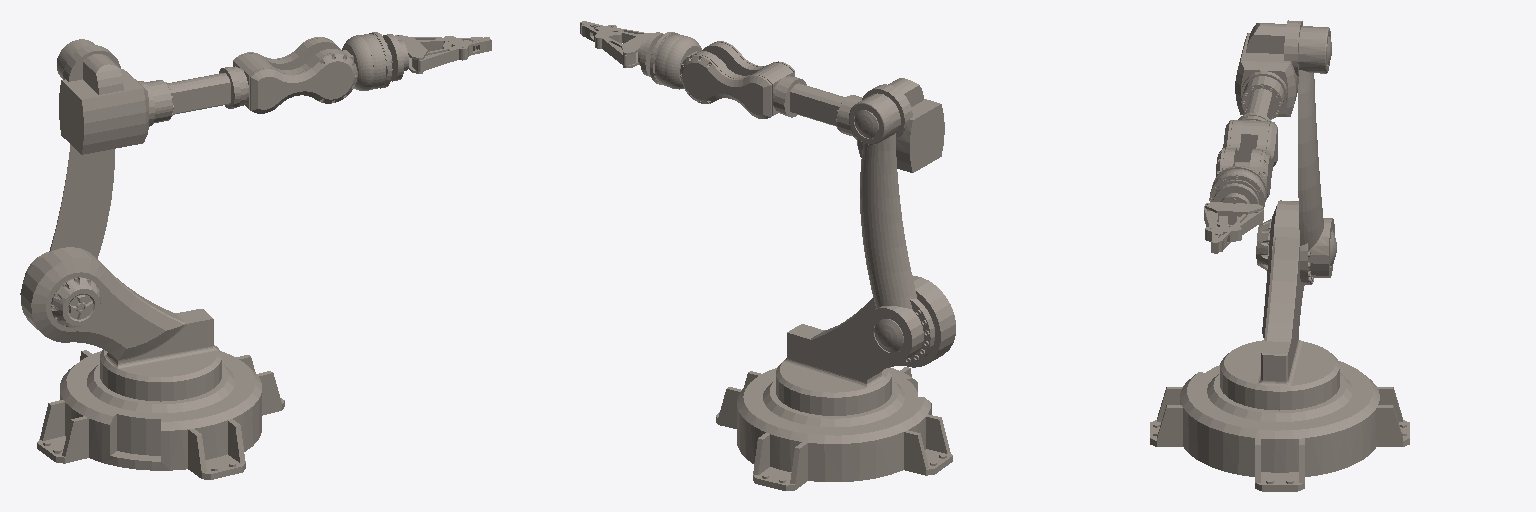
URDF robot description (arm_description):
<?xml version="1.0" encoding="utf-8"?>
<!-- This URDF was automatically created by SolidWorks to URDF Exporter! Originally created by [author] ([email redacted]) 
     Commit Version: 1.6.0-4-g7f85cfe  Build Version: 1.6.7995.38578
     For more information, please see http://wiki.ros.org/sw_urdf_exporter -->
<robot
  name="arm_description">
  <link
    name="base_link">
    <inertial>
      <origin
        xyz="0.00143969137250427 0.00143969137250421 0.00438777280701788"
        rpy="0 0 0" />
      <mass
        value="44.9190588648697" />
      <inertia
        ixx="0.286002598339597"
        ixy="0.00628467784877577"
        ixz="-0.000280541255882245"
        iyy="0.286002598339597"
        iyz="-0.000280541255882233"
        izz="0.522166428473919" />
    </inertial>
    <visual>
      <origin
        xyz="0 0 0"
        rpy="0 0 0" />
      <geometry>
        <mesh
          filename="package://arm_description/meshes/base_link.STL" />
      </geometry>
      <material
        name="">
        <color
          rgba="0.650980392156863 0.619607843137255 0.588235294117647 1" />
      </material>
    </visual>
    <collision>
      <origin
        xyz="0 0 0"
        rpy="0 0 0" />
      <geometry>
        <mesh
          filename="package://arm_description/meshes/base_link.STL" />
      </geometry>
    </collision>
  </link>
  <link
    name="link1">
    <inertial>
      <origin
        xyz="-0.057075524192337 0.0829029144921835 0.00277681134891594"
        rpy="0 0 0" />
      <mass
        value="18.1477609595778" />
      <inertia
        ixx="0.093812441089824"
        ixy="0.0713439095373798"
        ixz="0.00373913324318502"
        iyy="0.127557254087219"
        iyz="-0.00327157523451793"
        izz="0.186836265570095" />
    </inertial>
    <visual>
      <origin
        xyz="0 0 0"
        rpy="0 0 0" />
      <geometry>
        <mesh
          filename="package://arm_description/meshes/link1.STL" />
      </geometry>
      <material
        name="">
        <color
          rgba="0.650980392156863 0.619607843137255 0.588235294117647 1" />
      </material>
    </visual>
    <collision>
      <origin
        xyz="0 0 0"
        rpy="0 0 0" />
      <geometry>
        <mesh
          filename="package://arm_description/meshes/link1.STL" />
      </geometry>
    </collision>
  </link>
  <joint
    name="joint1"
    type="continuous">
    <origin
      xyz="0 0 0.05"
      rpy="1.5707963267949 0 -0.106786316106193" />
    <parent
      link="base_link" />
    <child
      link="link1" />
    <axis
      xyz="0 1 0" />
  </joint>
  <link
    name="link2">
    <inertial>
      <origin
        xyz="-0.140026146825609 0.0352923616875173 0.00812609460372782"
        rpy="0 0 0" />
      <mass
        value="7.18324748071002" />
      <inertia
        ixx="0.00478738563697837"
        ixy="-0.000656938778811113"
        ixz="0.00136729920819372"
        iyy="0.140060678405665"
        iyz="0.000243185688554337"
        izz="0.137440098674691" />
    </inertial>
    <visual>
      <origin
        xyz="0 0 0"
        rpy="0 0 0" />
      <geometry>
        <mesh
          filename="package://arm_description/meshes/link2.STL" />
      </geometry>
      <material
        name="">
        <color
          rgba="0.650980392156863 0.619607843137255 0.588235294117647 1" />
      </material>
    </visual>
    <collision>
      <origin
        xyz="0 0 0"
        rpy="0 0 0" />
      <geometry>
        <mesh
          filename="package://arm_description/meshes/link2.STL" />
      </geometry>
    </collision>
  </link>
  <joint
    name="joint2"
    type="continuous">
    <origin
      xyz="-0.15 0.16 0"
      rpy="-1.5707963267949 0 -1.69396353495007" />
    <parent
      link="link1" />
    <child
      link="link2" />
    <axis
      xyz="0 1 0" />
  </joint>
  <link
    name="link3">
    <inertial>
      <origin
        xyz="0.0339570442163462 0.0385141208523814 -0.026153403400337"
        rpy="0 0 0" />
      <mass
        value="10.1219655479422" />
      <inertia
        ixx="0.013852442854189"
        ixy="-0.00222927417346809"
        ixz="0.000634652869064411"
        iyy="0.0479561386819704"
        iyz="0.000970994342187811"
        izz="0.0510153448606204" />
    </inertial>
    <visual>
      <origin
        xyz="0 0 0"
        rpy="0 0 0" />
      <geometry>
        <mesh
          filename="package://arm_description/meshes/link3.STL" />
      </geometry>
      <material
        name="">
        <color
          rgba="0.650980392156863 0.619607843137255 0.588235294117647 1" />
      </material>
    </visual>
    <collision>
      <origin
        xyz="0 0 0"
        rpy="0 0 0" />
      <geometry>
        <mesh
          filename="package://arm_description/meshes/link3.STL" />
      </geometry>
    </collision>
  </link>
  <joint
    name="joint3"
    type="continuous">
    <origin
      xyz="-0.35 0 0"
      rpy="1.57079632678933 -1.44762911863972 -3.14159265358416" />
    <parent
      link="link2" />
    <child
      link="link3" />
    <axis
      xyz="0 0 1" />
  </joint>
  <link
    name="link4">
    <inertial>
      <origin
        xyz="-0.107629273657781 -1.96725968848455E-11 -3.96261912172235E-10"
        rpy="0 0 0" />
      <mass
        value="4.6846328248742" />
      <inertia
        ixx="0.00425222907051563"
        ixy="-1.15223954333504E-12"
        ixz="-1.17247842077589E-10"
        iyy="0.0166762626633217"
        iyz="1.32397646512377E-09"
        izz="0.0154642820527334" />
    </inertial>
    <visual>
      <origin
        xyz="0 0 0"
        rpy="0 0 0" />
      <geometry>
        <mesh
          filename="package://arm_description/meshes/link4.STL" />
      </geometry>
      <material
        name="">
        <color
          rgba="0.650980392156863 0.619607843137255 0.588235294117647 1" />
      </material>
    </visual>
    <collision>
      <origin
        xyz="0 0 0"
        rpy="0 0 0" />
      <geometry>
        <mesh
          filename="package://arm_description/meshes/link4.STL" />
      </geometry>
    </collision>
  </link>
  <joint
    name="joint4"
    type="continuous">
    <origin
      xyz="0.191733844433853 0.0450000000000266 -0.0279999999997629"
      rpy="-3.14159265358975 0 -3.14159265358961" />
    <parent
      link="link3" />
    <child
      link="link4" />
    <axis
      xyz="1 0 0" />
  </joint>
  <link
    name="link5">
    <inertial>
      <origin
        xyz="-1.06137321154165E-13 -5.99520433297585E-15 0.0593911348979121"
        rpy="0 0 0" />
      <mass
        value="2.67314149540547" />
      <inertia
        ixx="0.00301316183579177"
        ixy="3.55380738182177E-17"
        ixz="-4.47233396150271E-19"
        iyy="0.00299472549560383"
        iyz="1.24416924629023E-16"
        izz="0.00178277119167584" />
    </inertial>
    <visual>
      <origin
        xyz="0 0 0"
        rpy="0 0 0" />
      <geometry>
        <mesh
          filename="package://arm_description/meshes/link5.STL" />
      </geometry>
      <material
        name="">
        <color
          rgba="0.650980392156863 0.619607843137255 0.588235294117647 1" />
      </material>
    </visual>
    <collision>
      <origin
        xyz="0 0 0"
        rpy="0 0 0" />
      <geometry>
        <mesh
          filename="package://arm_description/meshes/link5.STL" />
      </geometry>
    </collision>
  </link>
  <joint
    name="joint5"
    type="continuous">
    <origin
      xyz="-0.166266155566159 0 0"
      rpy="3.1124527982526 1.57079630572147 -0.0291398553370043" />
    <parent
      link="link4" />
    <child
      link="link5" />
    <axis
      xyz="1 0 0" />
  </joint>
  <link
    name="link6">
    <inertial>
      <origin
        xyz="0.0254645564837129 -2.55351295663786E-15 0"
        rpy="0 0 0" />
      <mass
        value="0.599488074004664" />
      <inertia
        ixx="0.000318150978567396"
        ixy="-2.04830878322425E-18"
        ixz="1.79570984817912E-19"
        iyy="0.000298478621868992"
        iyz="-1.81199056464057E-19"
        izz="0.000248329231235005" />
    </inertial>
    <visual>
      <origin
        xyz="0 0 0"
        rpy="0 0 0" />
      <geometry>
        <mesh
          filename="package://arm_description/meshes/link6.STL" />
      </geometry>
      <material
        name="">
        <color
          rgba="0.650980392156863 0.619607843137255 0.588235294117647 1" />
      </material>
    </visual>
    <collision>
      <origin
        xyz="0 0 0"
        rpy="0 0 0" />
      <geometry>
        <mesh
          filename="package://arm_description/meshes/link6.STL" />
      </geometry>
    </collision>
  </link>
  <joint
    name="joint6"
    type="continuous">
    <origin
      xyz="0 0 0.0947144555394169"
      rpy="3.14159265358979 -1.5707963267949 0" />
    <parent
      link="link5" />
    <child
      link="link6" />
    <axis
      xyz="1 0 0" />
  </joint>
  <link
    name="link7">
    <inertial>
      <origin
        xyz="7.12545567160827E-06 -0.0529959306902813 -0.0242856512691401"
        rpy="0 0 0" />
      <mass
        value="0.310349624397085" />
      <inertia
        ixx="0.000423122555917328"
        ixy="2.95995593893583E-08"
        ixz="2.4103351774309E-08"
        iyy="6.53431315833532E-05"
        iyz="-0.000112596773524812"
        izz="0.000373533620298053" />
    </inertial>
    <visual>
      <origin
        xyz="0 0 0"
        rpy="0 0 0" />
      <geometry>
        <mesh
          filename="package://arm_description/meshes/link7.STL" />
      </geometry>
      <material
        name="">
        <color
          rgba="0.650980392156863 0.619607843137255 0.588235294117647 1" />
      </material>
    </visual>
    <collision>
      <origin
        xyz="0 0 0"
        rpy="0 0 0" />
      <geometry>
        <mesh
          filename="package://arm_description/meshes/link7.STL" />
      </geometry>
    </collision>
  </link>
  <joint
    name="joint7"
    type="continuous">
    <origin
      xyz="0.0425044303195282 0 0.0408095110958686"
      rpy="0.106786316106193 0 1.5707963267948" />
    <parent
      link="link6" />
    <child
      link="link7" />
    <axis
      xyz="1 0 0" />
  </joint>
  <link
    name="link8">
    <inertial>
      <origin
        xyz="7.12545567183032E-06 -0.0529959306902812 -0.0242856512691401"
        rpy="0 0 0" />
      <mass
        value="0.310349624397084" />
      <inertia
        ixx="0.000423122555917325"
        ixy="2.9599559391305E-08"
        ixz="2.41033517749469E-08"
        iyy="6.53431315833555E-05"
        iyz="-0.000112596773524815"
        izz="0.000373533620298048" />
    </inertial>
    <visual>
      <origin
        xyz="0 0 0"
        rpy="0 0 0" />
      <geometry>
        <mesh
          filename="package://arm_description/meshes/link8.STL" />
      </geometry>
      <material
        name="">
        <color
          rgba="0.650980392156863 0.619607843137255 0.588235294117647 1" />
      </material>
    </visual>
    <collision>
      <origin
        xyz="0 0 0"
        rpy="0 0 0" />
      <geometry>
        <mesh
          filename="package://arm_description/meshes/link8.STL" />
      </geometry>
    </collision>
  </link>
  <joint
    name="joint8"
    type="continuous">
    <origin
      xyz="0.0425044303195284 0 -0.0408095110958682"
      rpy="3.0348063374836 0 -1.570796326795" />
    <parent
      link="link6" />
    <child
      link="link8" />
    <axis
      xyz="1 0 0" />
  </joint>
</robot>

--- Render facts (derived) ---
Views: 3 orthographic renders of the robot side by side, from view 1: azimuth 30°, elevation 25°; view 2: azimuth 150°, elevation 25°; view 3: azimuth 270°, elevation 25°.
Model arm_description with 9 links and 8 joints (8 continuous), rooted at base_link, posed every joint at zero.
Visible links, largest first — view 1: base_link, link1, link3, link4, link2, link5, link6, link8, link7; view 2: base_link, link2, link1, link3, link4, link5, link7, link6; view 3: base_link, link1, link2, link3, link4, link6, link5, link7, link8.
Link boxes in pixels (x1,y1,x2,y2): base_link: [37, 350, 284, 479]; link1: [20, 247, 221, 401]; link3: [59, 45, 246, 154]; link4: [233, 37, 357, 113]; link2: [23, 39, 114, 280]; link5: [342, 32, 392, 90]; link6: [383, 34, 427, 81]; link8: [412, 37, 491, 71]; link7: [413, 36, 483, 51]; base_link: [716, 367, 952, 490]; link2: [849, 93, 934, 363]; link1: [776, 275, 955, 415]; link3: [774, 76, 944, 172]; link4: [680, 41, 794, 118]; link5: [649, 32, 726, 89]; link7: [582, 23, 635, 65]; link6: [622, 32, 663, 76]; base_link: [1150, 361, 1409, 491]; link1: [1220, 200, 1339, 410]; link2: [1298, 26, 1336, 284]; link3: [1235, 20, 1302, 121]; link4: [1216, 120, 1277, 199]; link6: [1205, 183, 1262, 224]; link5: [1209, 162, 1266, 208]; link7: [1215, 209, 1263, 251]; link8: [1204, 206, 1233, 253].
Bounding box of the posed robot: 0.7252 × 0.3905 × 0.6348 m (x, y, z).
9 mesh visuals loaded from 9 distinct referenced files (9 binary STL).